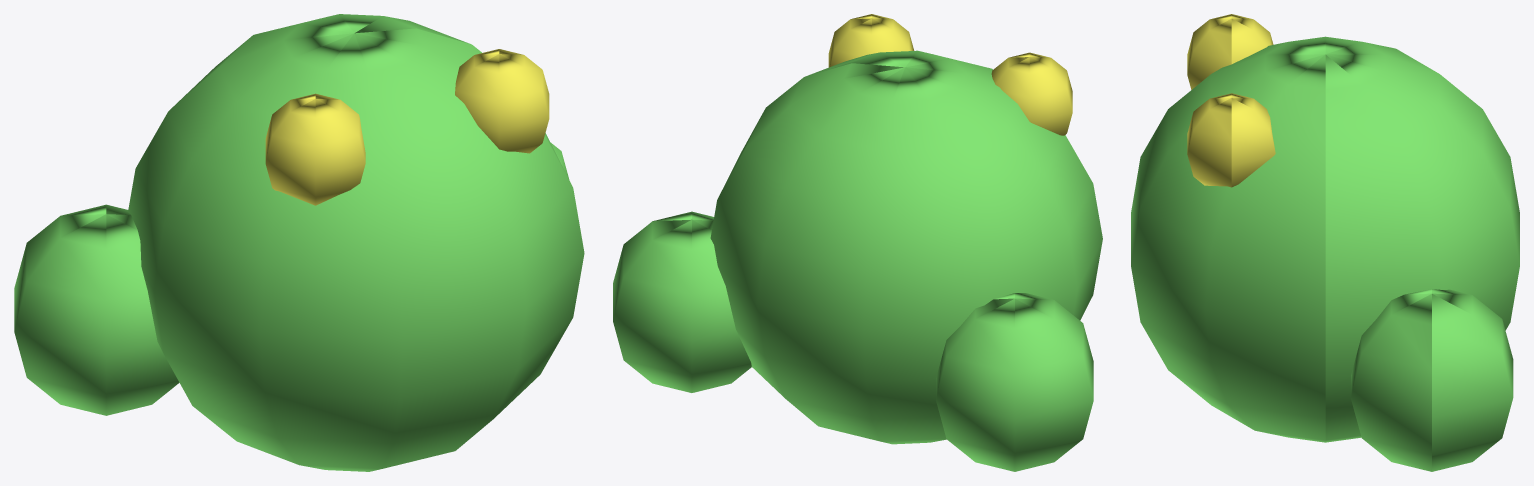
Rendered from ee652c0d-2c42-4ba6-af5a-7a608c1cde52.glb.
3 renders of one model, left to right at view 1: azimuth 30°, elevation 25°; view 2: azimuth 150°, elevation 25°; view 3: azimuth 270°, elevation 25°, orthographic. The views are drawn at different scales.
Parts seen in each view (by area): view 1: Generated3DMesh; view 2: Generated3DMesh; view 3: Generated3DMesh.
Boxes of the visible parts, bbox=[...] form: Generated3DMesh: bbox=[14, 14, 584, 471]; Generated3DMesh: bbox=[613, 14, 1102, 471]; Generated3DMesh: bbox=[1131, 14, 1519, 471].
Size of the model in its own units: 1.34 by 0.96 by 0.913.
